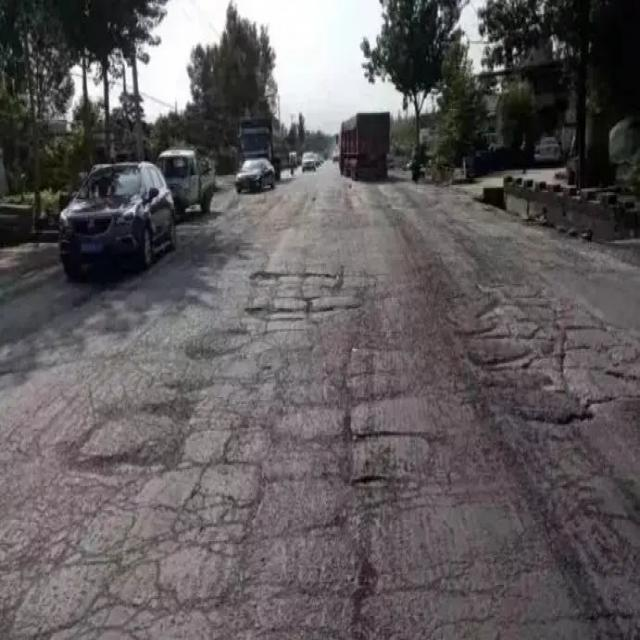Pothole: (470, 280, 636, 421), (80, 426, 187, 484), (335, 540, 393, 606), (246, 298, 355, 325), (346, 421, 442, 451), (246, 264, 344, 290), (146, 394, 208, 424), (346, 469, 401, 499), (187, 343, 234, 359)
